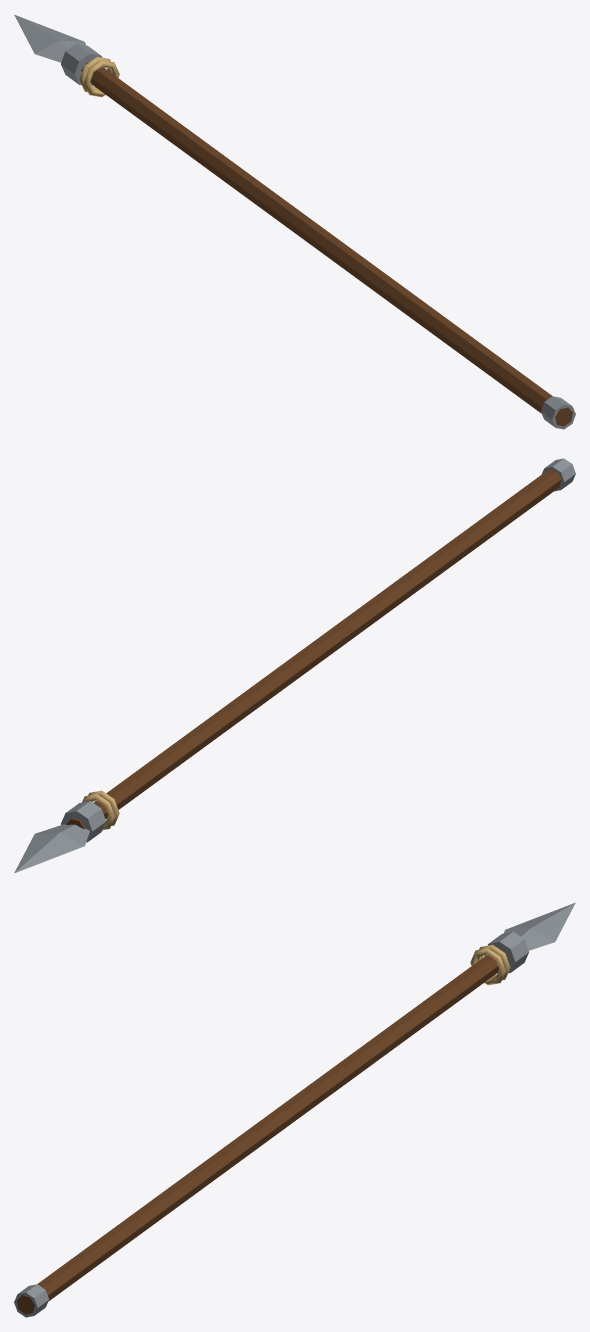
The model's file is Weapon_Spear_Iron.fbx.
3 renders of one model, top to bottom at view 1: azimuth 30°, elevation 25°; view 2: azimuth 150°, elevation 25°; view 3: azimuth 330°, elevation 25°, orthographic.
Visible parts, largest first — view 1: Weapon_Spear_Iron; view 2: Weapon_Spear_Iron; view 3: Weapon_Spear_Iron.
Part boxes in pixels (<box>): Weapon_Spear_Iron: <box>14,14,575,429</box>; Weapon_Spear_Iron: <box>14,458,575,873</box>; Weapon_Spear_Iron: <box>14,902,575,1317</box>.
Bounding box in the file's own units: 0.038 × 0.027 × 0.72.
